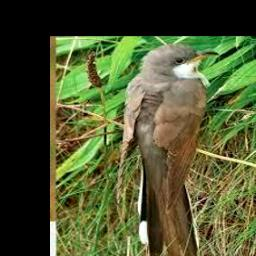Cuckoo: (122, 45, 219, 256)
